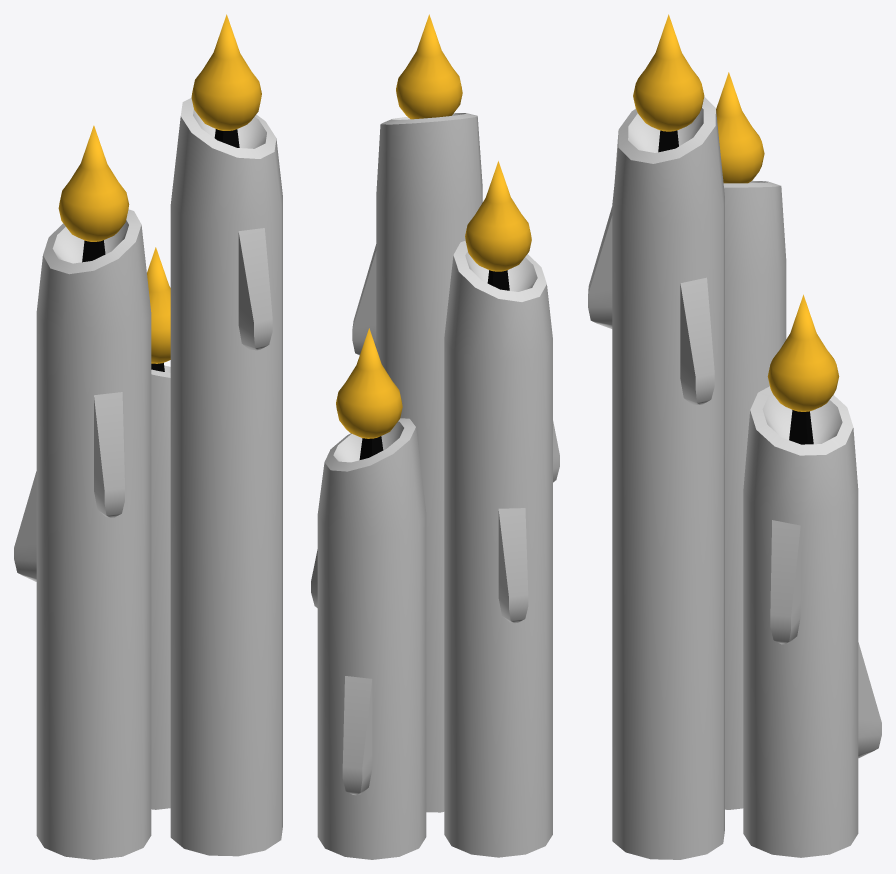
Rendered from candleBundle.glb.
3 views of the same model, side by side, from view 1: azimuth 30°, elevation 25°; view 2: azimuth 150°, elevation 25°; view 3: azimuth 270°, elevation 25° (orthographic). The views are drawn at different scales.
Parts seen in each view (by area): view 1: candleBundle; view 2: candleBundle; view 3: candleBundle.
Boxes of the visible parts, bbox=[...] form: candleBundle: bbox=[14, 14, 282, 859]; candleBundle: bbox=[311, 14, 559, 859]; candleBundle: bbox=[588, 14, 881, 859].
Size of the model in its own units: 0.3096 by 1.08 by 0.3487.
